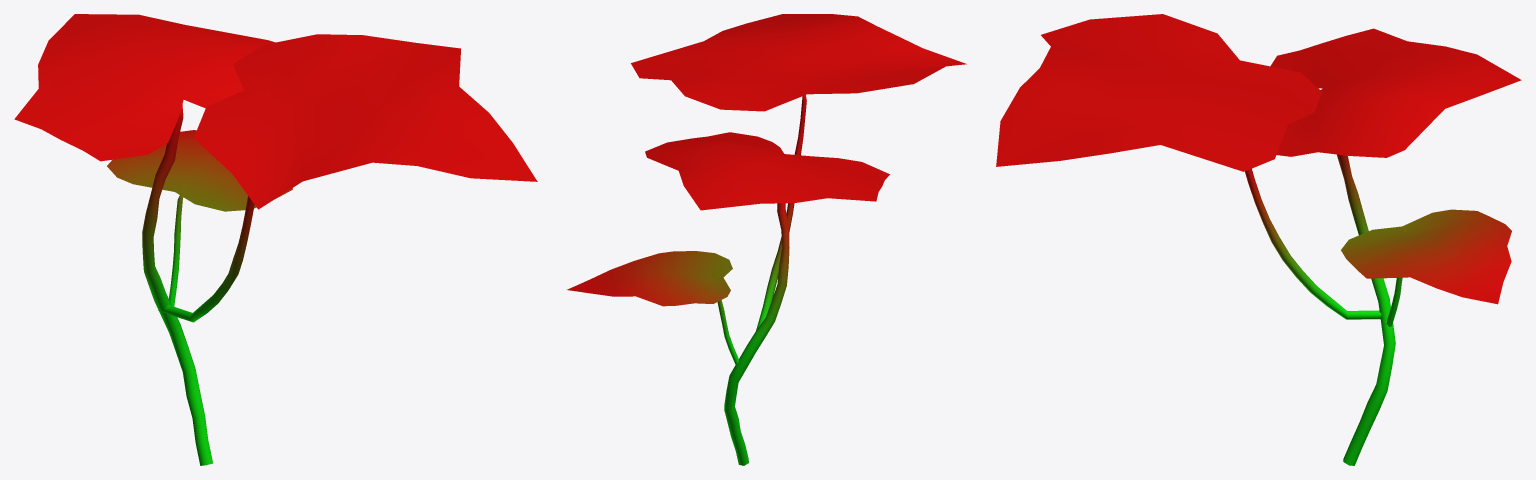
File: Var10_LOD0.fbx
3 renders of one model, left to right at view 1: azimuth 30°, elevation 25°; view 2: azimuth 150°, elevation 25°; view 3: azimuth 270°, elevation 25°, orthographic. The views are drawn at different scales.
Visible parts, largest first — view 1: _zw6b_Var10_LOD0; view 2: _zw6b_Var10_LOD0; view 3: _zw6b_Var10_LOD0.
Boxes of the visible parts, x1,y1,x2,y2 form: _zw6b_Var10_LOD0: [14, 14, 537, 465]; _zw6b_Var10_LOD0: [567, 14, 966, 465]; _zw6b_Var10_LOD0: [996, 14, 1521, 465].
Size of the model in its own units: 9.75 by 10.6 by 12.65.
